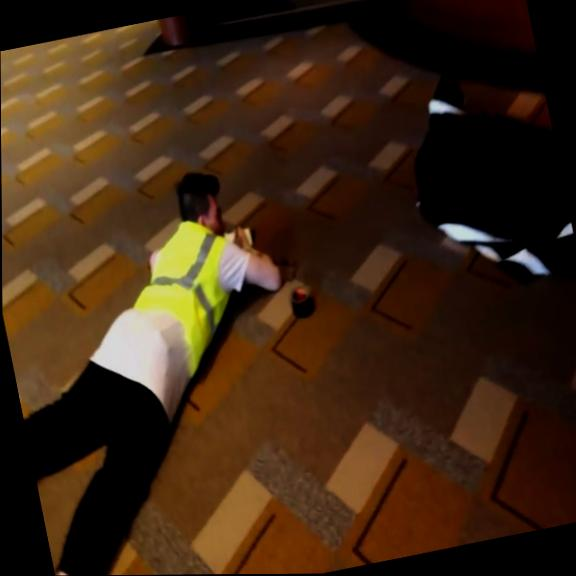safety_vest: (119, 216, 253, 392)
